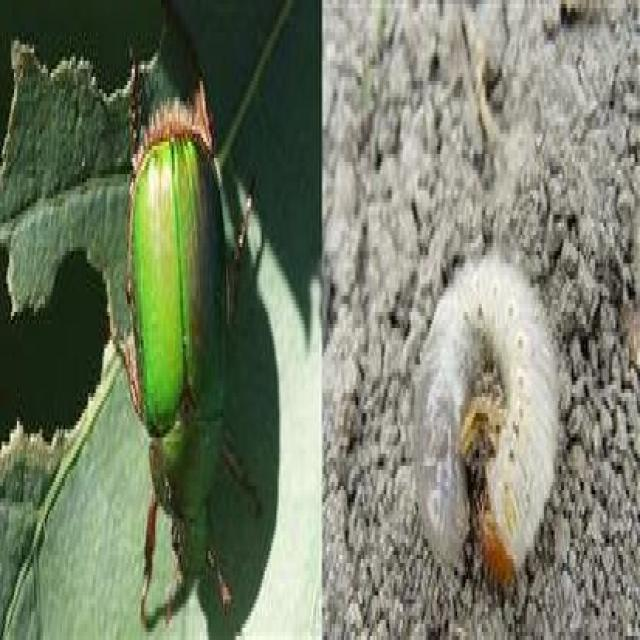Grub-Adult-: (408, 245, 564, 592)
